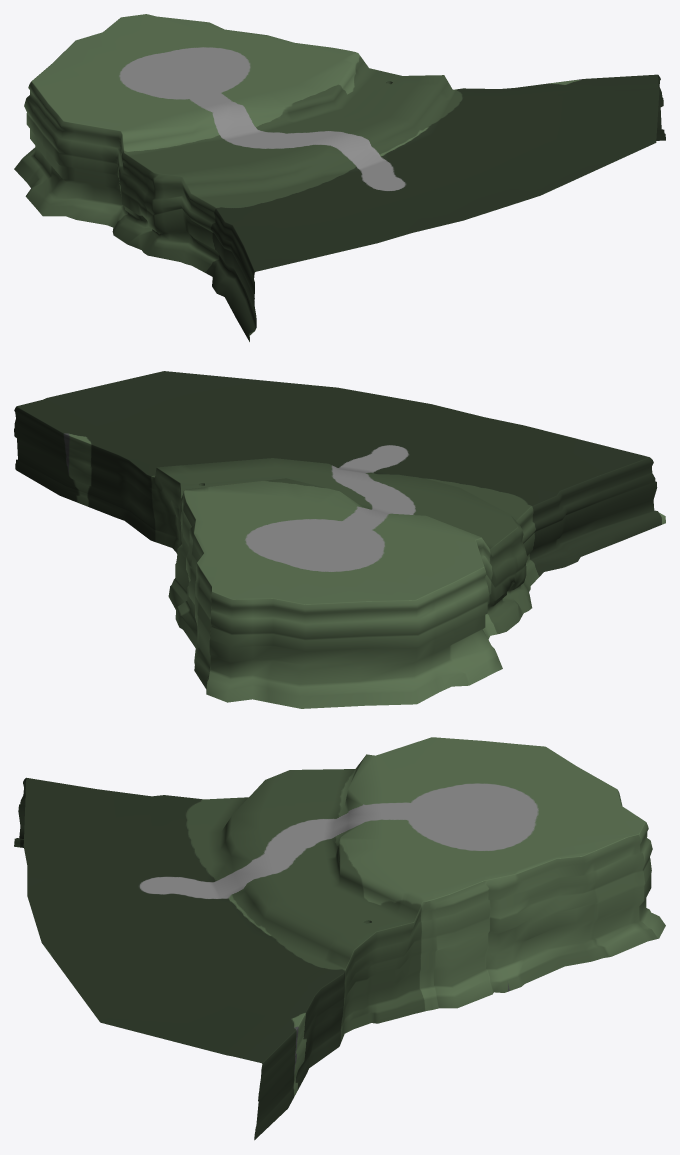
File: Peninsula01.fbx
The picture shows the model from 3 angles, top to bottom: view 1: azimuth 30°, elevation 25°; view 2: azimuth 150°, elevation 25°; view 3: azimuth 270°, elevation 25°; orthographic projection. The views are drawn at different scales.
Parts seen in each view (by area): view 1: PeniBasecliff; view 2: PeniBasecliff; view 3: PeniBasecliff.
Boxes of the visible parts, bbox=[...] form: PeniBasecliff: bbox=[14, 14, 665, 341]; PeniBasecliff: bbox=[14, 371, 665, 708]; PeniBasecliff: bbox=[14, 737, 665, 1140].
Bounding box in the file's own units: 5971 × 965 × 5331.
